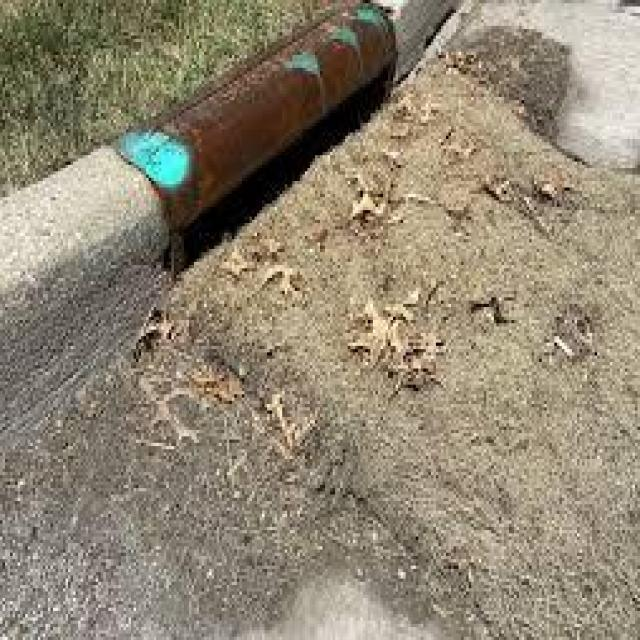bump: (0, 5, 429, 397)
